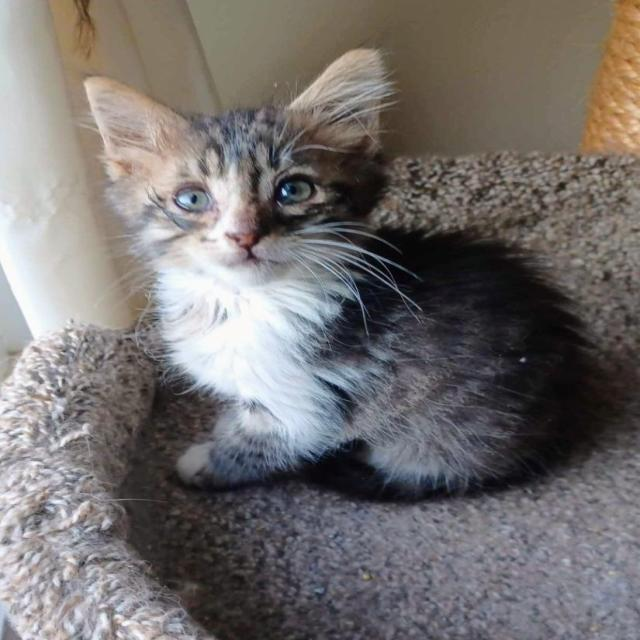maine_coon_cat: (70, 37, 420, 310)
